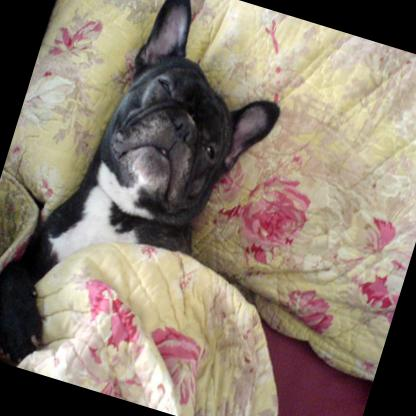French_bulldog: (0, 0, 306, 416)
